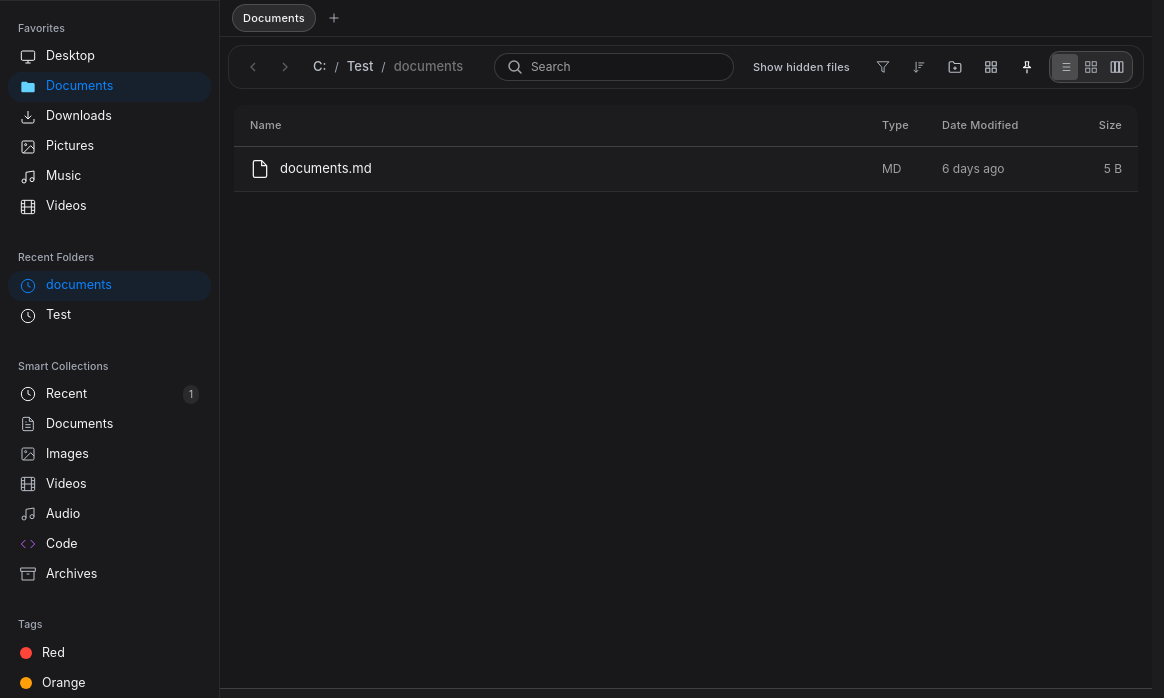
Scenario: keeps the new folder visible when a previous folder mutation finishes
This screenshot has width=1164, height=698.
Expected: the text "documents.md" is shown, [280,159,372,178]
Click the button named "Create new folder" at (955, 67), box [941,53,969,81]
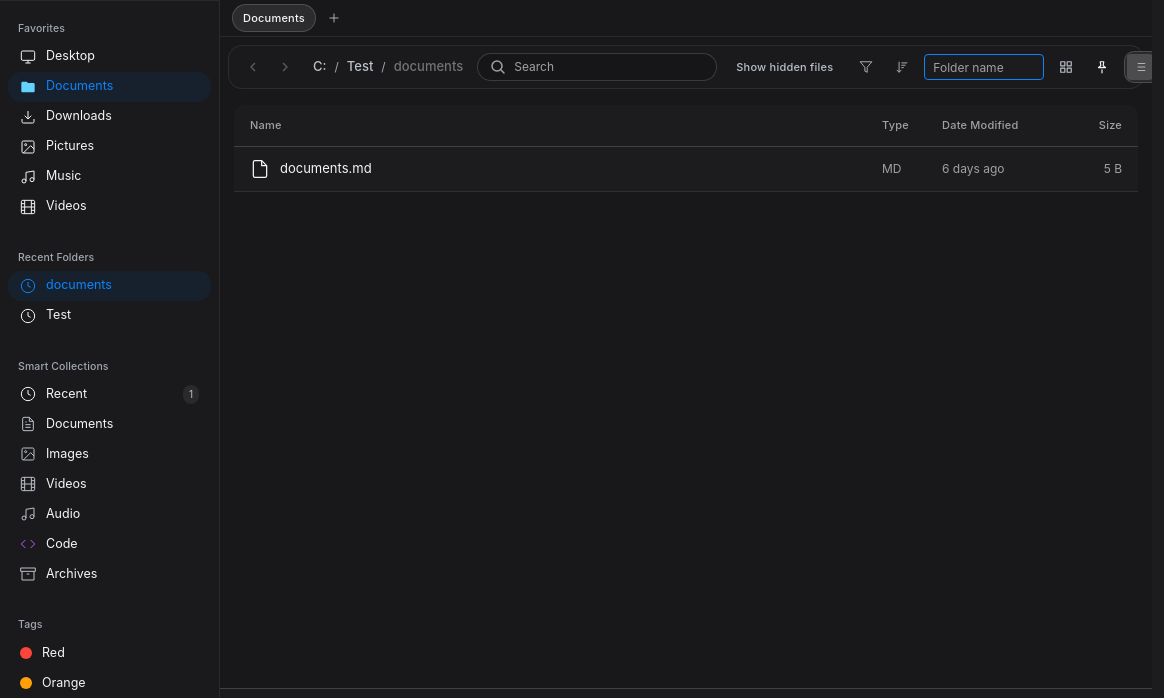
Type "Projects" into the field named "New folder name" at (984, 67), box [924,54,1044,80]
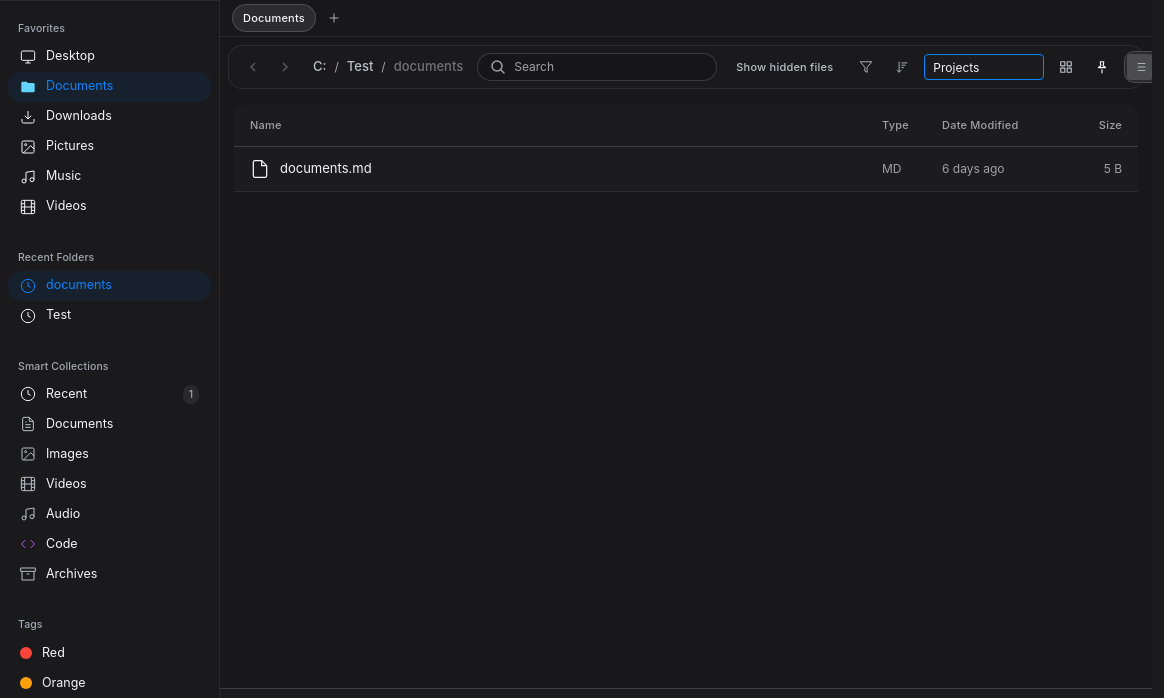
Press Enter in the field named "New folder name", box [924,54,1044,80]
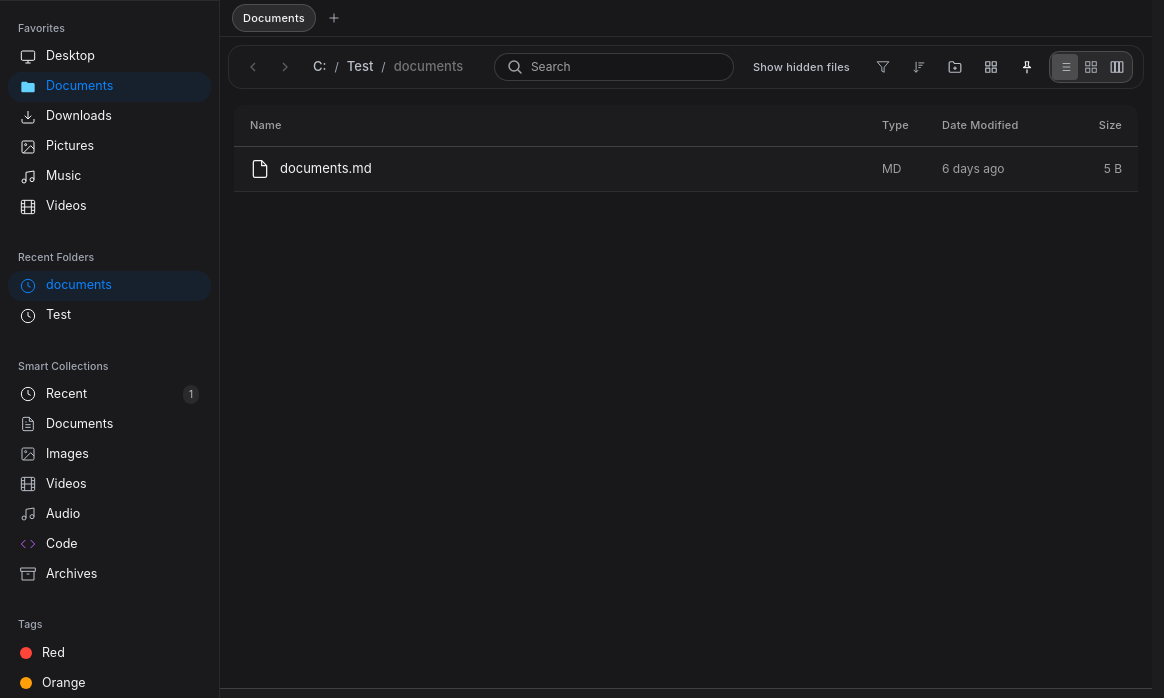
Click the button "Downloads" at (110, 117), box [8,102,211,132]
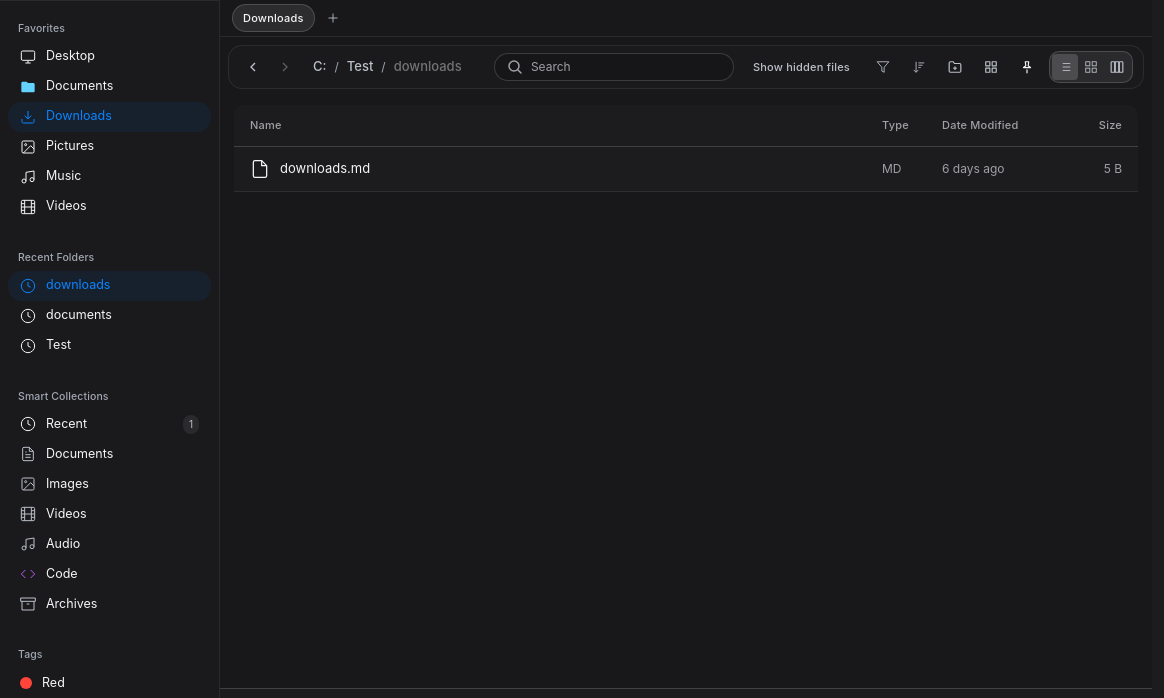
Expected: the text "downloads.md" is shown, [280,159,370,178]
Expected: the text "documents.md" is gone
